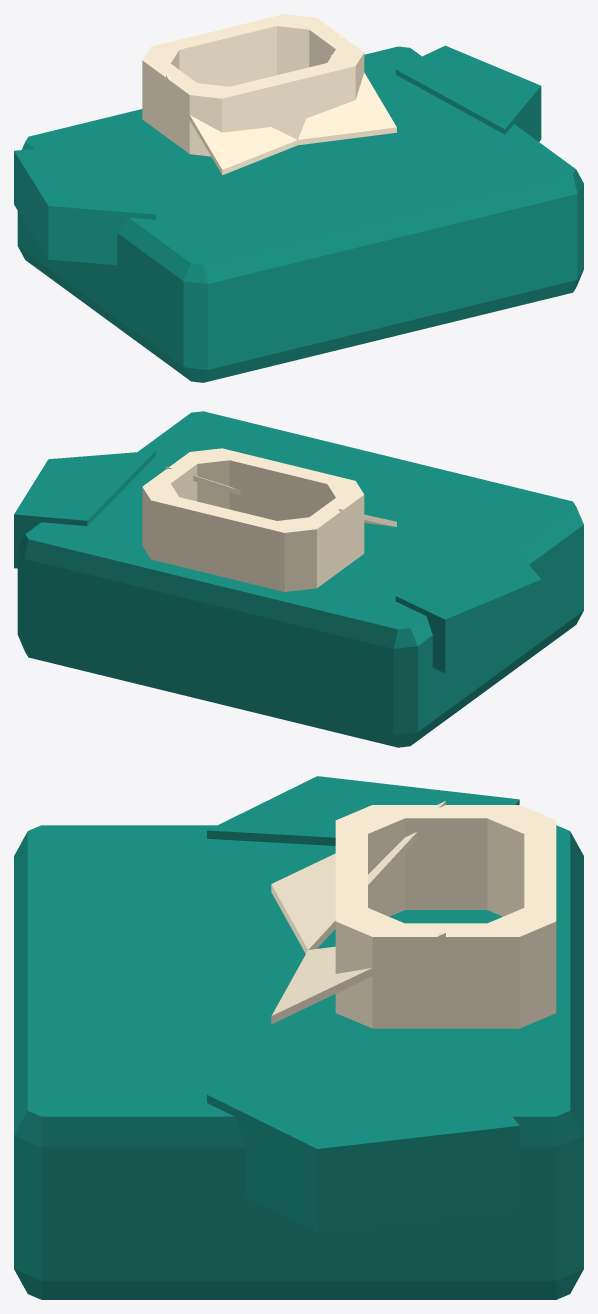
File: 18-folded-clothes.glb
3 renders of one model, top to bottom at view 1: azimuth 30°, elevation 25°; view 2: azimuth 150°, elevation 25°; view 3: azimuth 270°, elevation 25°, orthographic. The views are drawn at different scales.
Parts seen in each view (by area): view 1: 18-folded-clothes__FoldedBody, 18-folded-clothes__CreamCollar, 18-folded-clothes__FoldedSleeve_0, 18-folded-clothes__FoldedSleeve_1, 18-folded-clothes__CollarPoint_1, 18-folded-clothes__CollarPoint_0; view 2: 18-folded-clothes__FoldedBody, 18-folded-clothes__CreamCollar, 18-folded-clothes__FoldedSleeve_0, 18-folded-clothes__FoldedSleeve_1; view 3: 18-folded-clothes__FoldedBody, 18-folded-clothes__CreamCollar, 18-folded-clothes__FoldedSleeve_1, 18-folded-clothes__FoldedSleeve_0, 18-folded-clothes__CollarPoint_0, 18-folded-clothes__CollarPoint_1.
Boxes of the visible parts, x1,y1,x2,y2 form: 18-folded-clothes__FoldedBody: [17, 46, 583, 382]; 18-folded-clothes__CreamCollar: [142, 14, 364, 156]; 18-folded-clothes__FoldedSleeve_0: [14, 144, 155, 264]; 18-folded-clothes__FoldedSleeve_1: [395, 45, 541, 141]; 18-folded-clothes__CollarPoint_1: [297, 32, 396, 145]; 18-folded-clothes__CollarPoint_0: [166, 75, 297, 175]; 18-folded-clothes__FoldedBody: [17, 411, 583, 747]; 18-folded-clothes__CreamCollar: [142, 448, 364, 591]; 18-folded-clothes__FoldedSleeve_0: [395, 536, 541, 673]; 18-folded-clothes__FoldedSleeve_1: [14, 450, 155, 568]; 18-folded-clothes__FoldedBody: [14, 825, 583, 1299]; 18-folded-clothes__CreamCollar: [335, 805, 556, 1028]; 18-folded-clothes__FoldedSleeve_1: [207, 1079, 519, 1232]; 18-folded-clothes__FoldedSleeve_0: [207, 776, 519, 845]; 18-folded-clothes__CollarPoint_0: [271, 801, 445, 953]; 18-folded-clothes__CollarPoint_1: [271, 933, 445, 1024].
Size of the model in its own units: 0.48 by 0.1725 by 0.31.
